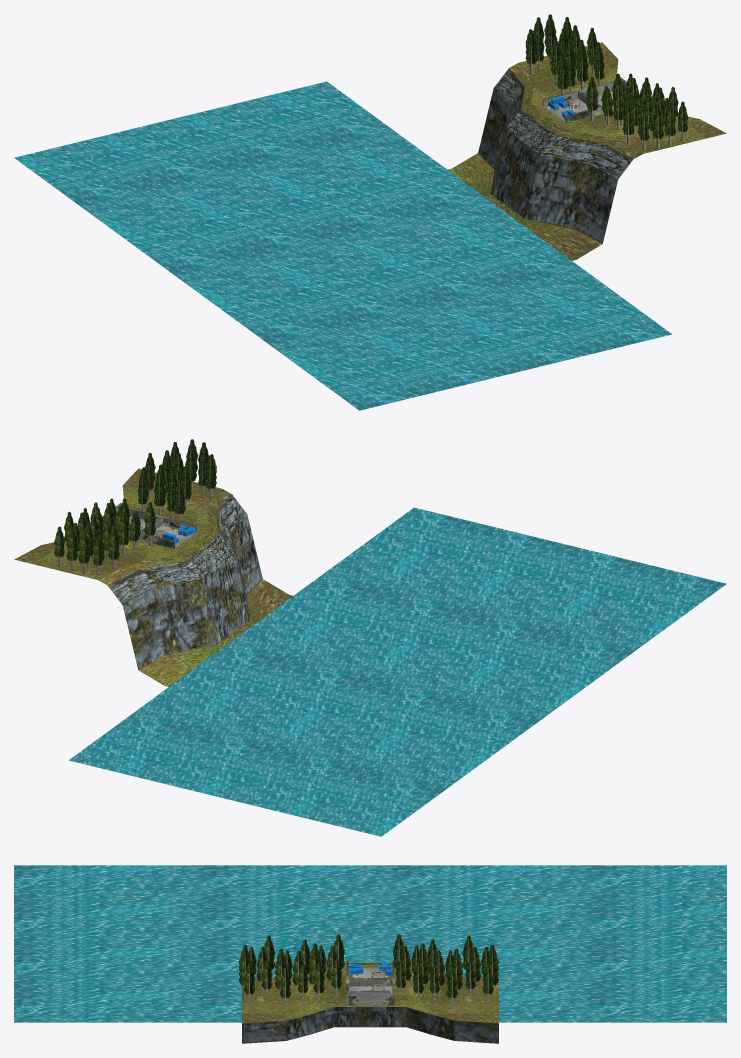
The model's file is LV_1_Ready (1).fbx.
The picture shows the model from 3 angles, top to bottom: view 1: azimuth 30°, elevation 25°; view 2: azimuth 150°, elevation 25°; view 3: azimuth 270°, elevation 25°; orthographic projection. The views are drawn at different scales.
Visible parts, largest first — view 1: Plane, Ground, Tree.001, Tree, LV1_chunk; view 2: Plane, Ground, Tree, Tree.001, LV1_chunk; view 3: Plane, Ground, Tree.001, Tree, LV1_chunk, Container.
Part boxes in pixels (x1,y1,x2,y2): Plane: (14, 81, 671, 410); Ground: (448, 42, 726, 260); Tree.001: (586, 73, 688, 149); Tree: (525, 14, 604, 94); LV1_chunk: (542, 77, 639, 122); Plane: (69, 507, 726, 836); Ground: (14, 468, 292, 686); Tree: (54, 498, 156, 574); Tree.001: (137, 439, 216, 520); LV1_chunk: (102, 503, 198, 548); Plane: (14, 865, 726, 1022); Ground: (242, 963, 498, 1043); Tree.001: (239, 934, 344, 1007); Tree: (392, 934, 498, 1007); LV1_chunk: (346, 961, 394, 1005); Container: (348, 961, 391, 975).
Bounding box in the file's own units: 82012 × 21829 × 102713.
